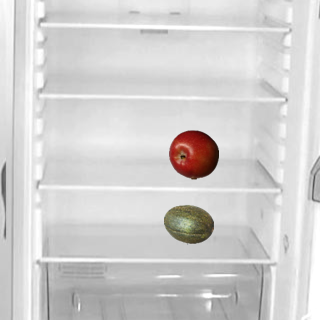Apple Braeburn: (168, 129, 218, 179)
Melon Piel de Sapo: (163, 199, 213, 249)
